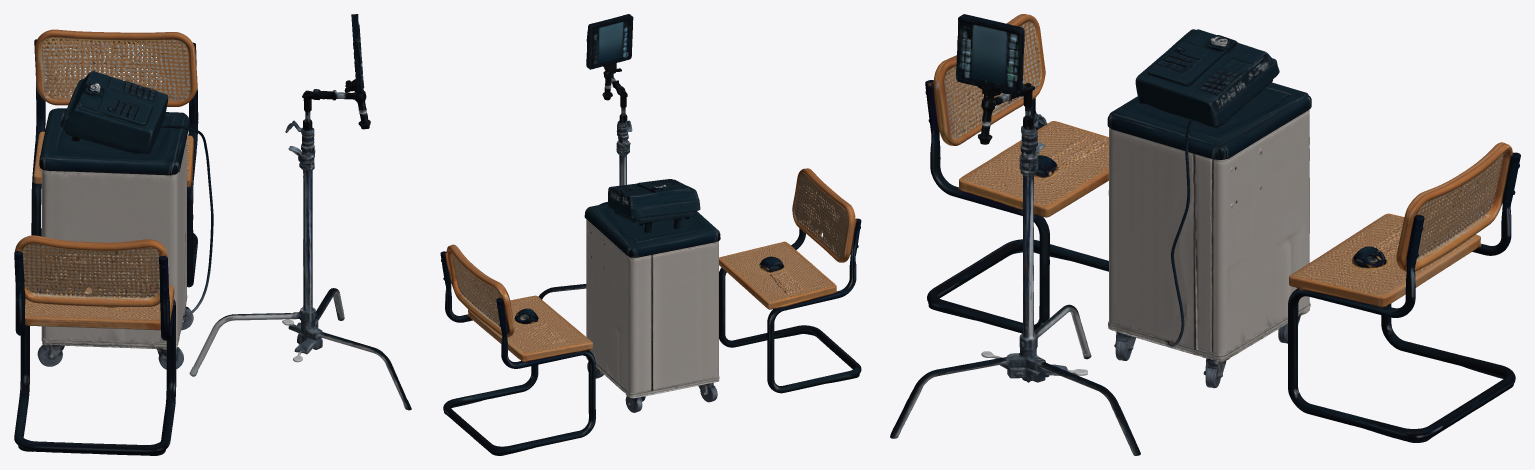
File: culture_set.glb
The picture shows the model from 3 angles, left to right: view 1: azimuth 30°, elevation 25°; view 2: azimuth 150°, elevation 25°; view 3: azimuth 270°, elevation 25°; orthographic projection. The views are drawn at different scales.
Visible parts, largest first — view 1: tripo_node_c9ce542f-831b-4e68-8c14-cc1eb9f5f028; view 2: tripo_node_c9ce542f-831b-4e68-8c14-cc1eb9f5f028; view 3: tripo_node_c9ce542f-831b-4e68-8c14-cc1eb9f5f028.
Boxes of the visible parts, x1,y1,x2,y2 form: tripo_node_c9ce542f-831b-4e68-8c14-cc1eb9f5f028: (14,14,411,455); tripo_node_c9ce542f-831b-4e68-8c14-cc1eb9f5f028: (440,14,861,455); tripo_node_c9ce542f-831b-4e68-8c14-cc1eb9f5f028: (890,14,1520,455).
Bounding box in the file's own units: 1 × 0.9 × 1.26.
1 material, 1 textured.
